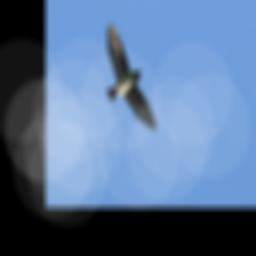Swallow: (100, 21, 159, 132)
